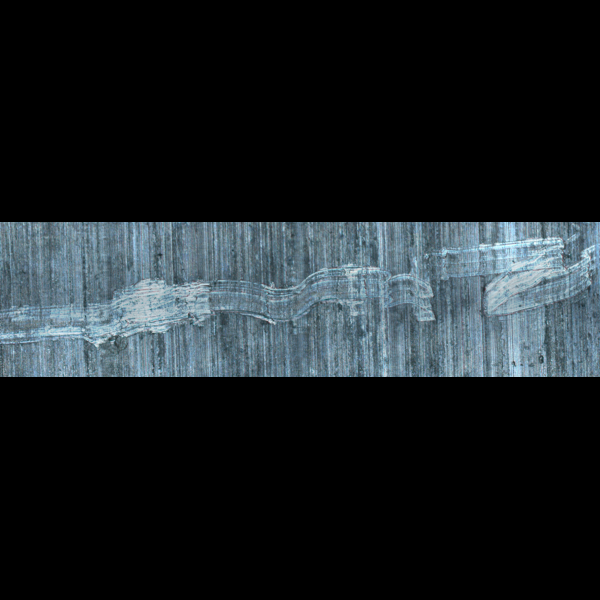d: (0, 231, 596, 355)
